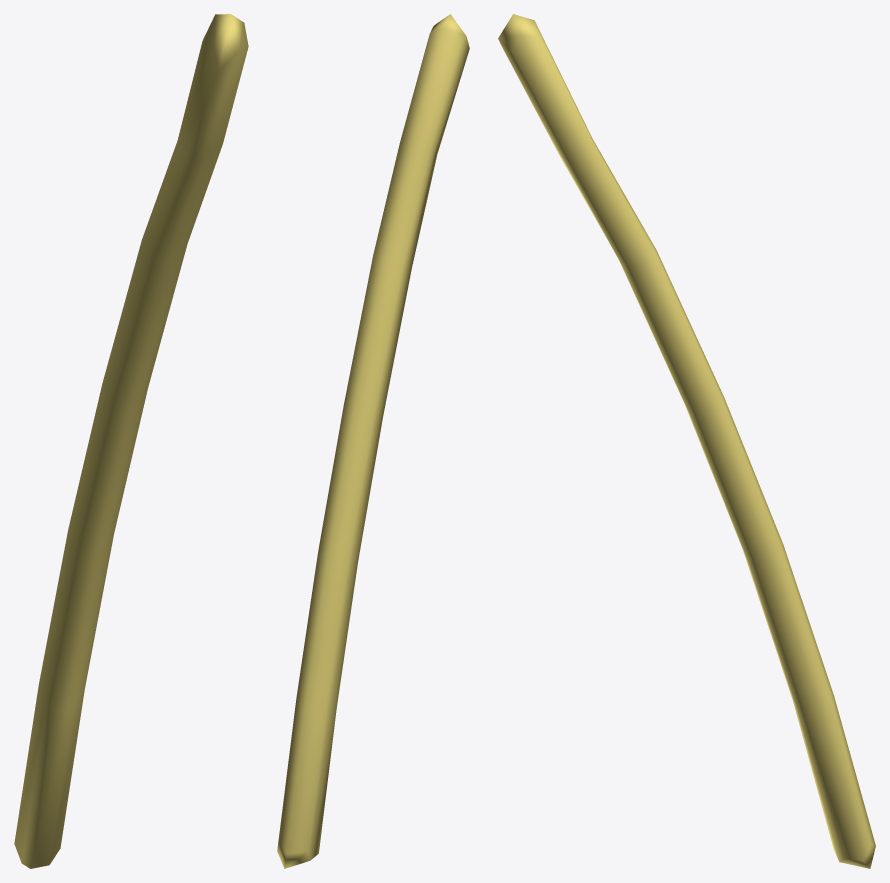
Rendered from nucleus-of-accessory-nerve-r.glb.
3 views of the same model, side by side, from view 1: azimuth 30°, elevation 25°; view 2: azimuth 150°, elevation 25°; view 3: azimuth 270°, elevation 25° (orthographic). The views are drawn at different scales.
Visible parts, largest first — view 1: Nucleus of accessory nerve.r; view 2: Nucleus of accessory nerve.r; view 3: Nucleus of accessory nerve.r.
Boxes of the visible parts, x1,y1,x2,y2 form: Nucleus of accessory nerve.r: [14, 14, 248, 868]; Nucleus of accessory nerve.r: [277, 14, 469, 868]; Nucleus of accessory nerve.r: [498, 14, 875, 868].
Size of the model in its own units: 0.00137 by 0.0273 by 0.011.
